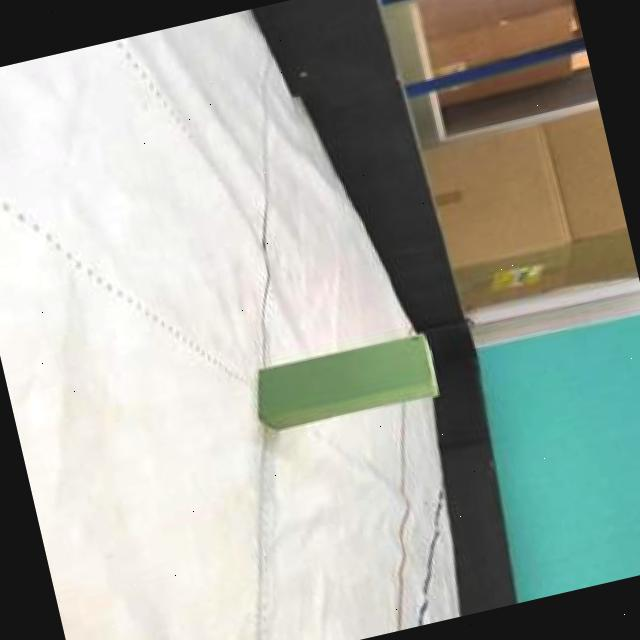greenbox: (244, 326, 446, 434)
